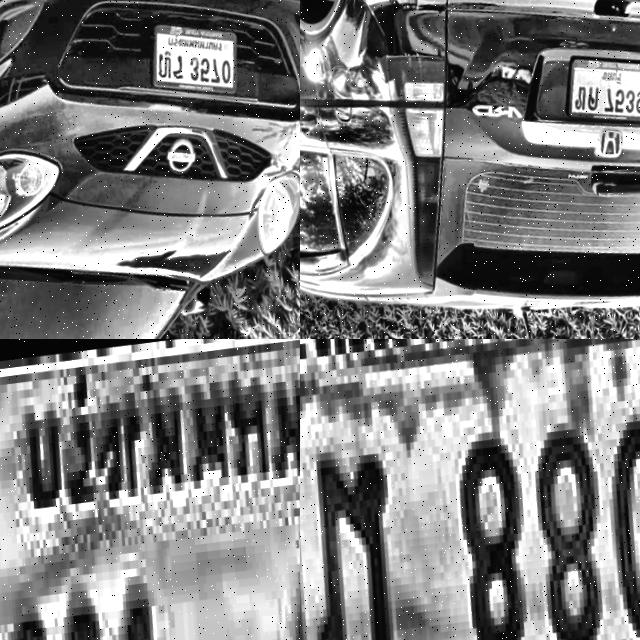license-plate: (300, 339, 640, 640), (0, 339, 300, 640), (145, 6, 249, 110), (562, 43, 640, 130)
